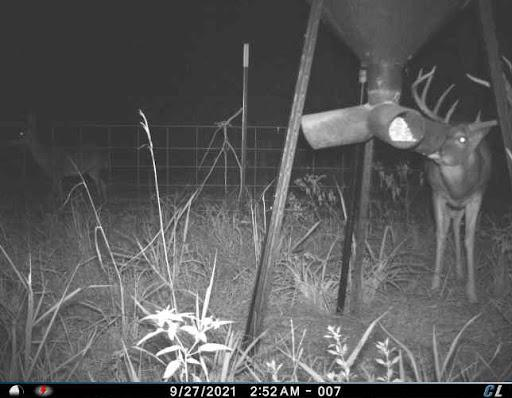Deer: (406, 60, 512, 304)
